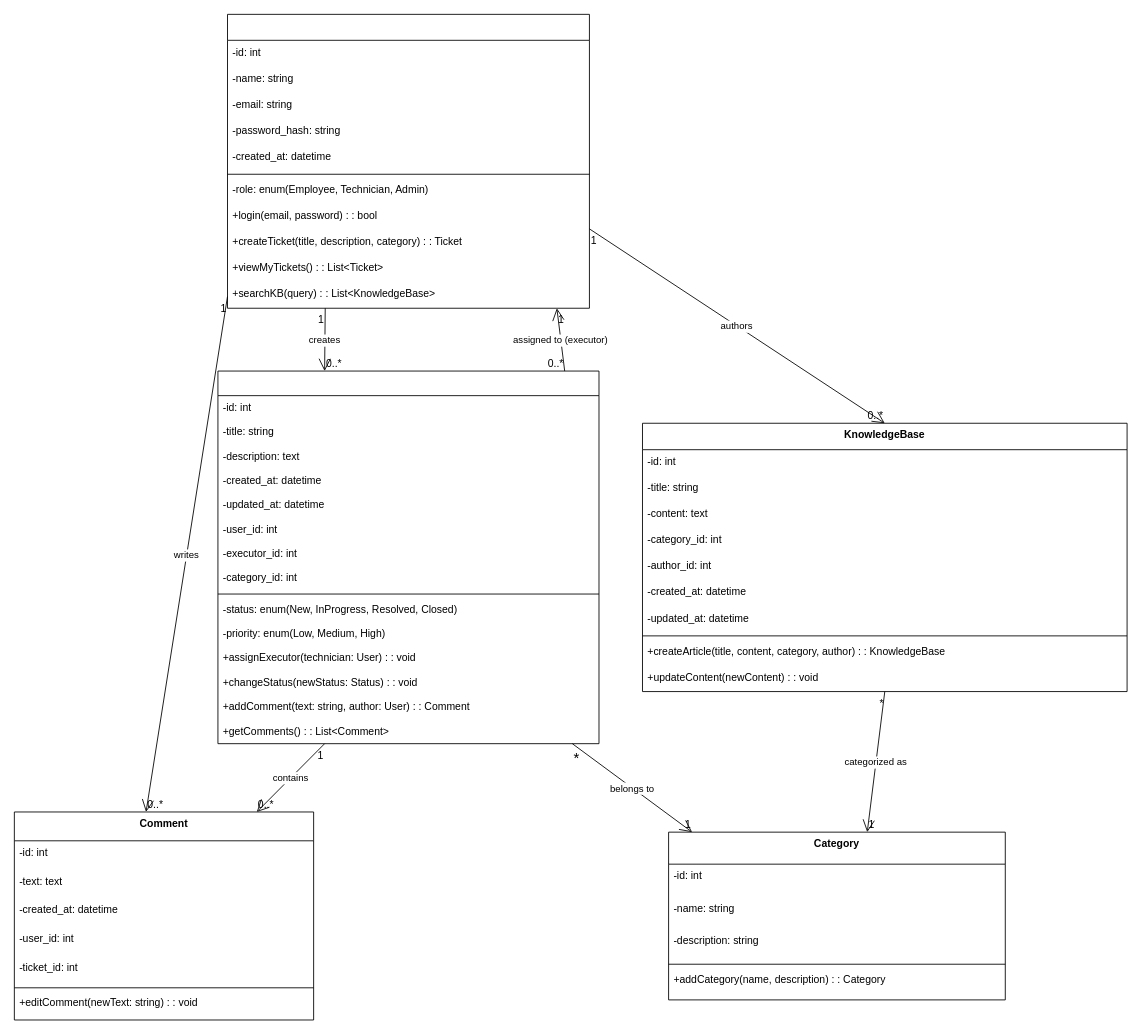
Some shapes in this 1141 by 1034 pixel diagram are drawn without their labels. Each missing label, with the box of its shape:
Ticket: (217, 370, 599, 744)
User: (227, 13, 589, 308)
